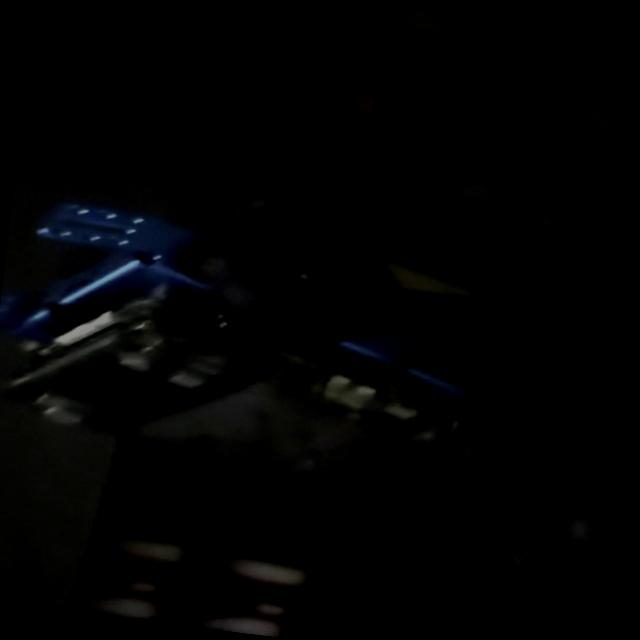mbot-detection: (0, 173, 541, 520)
